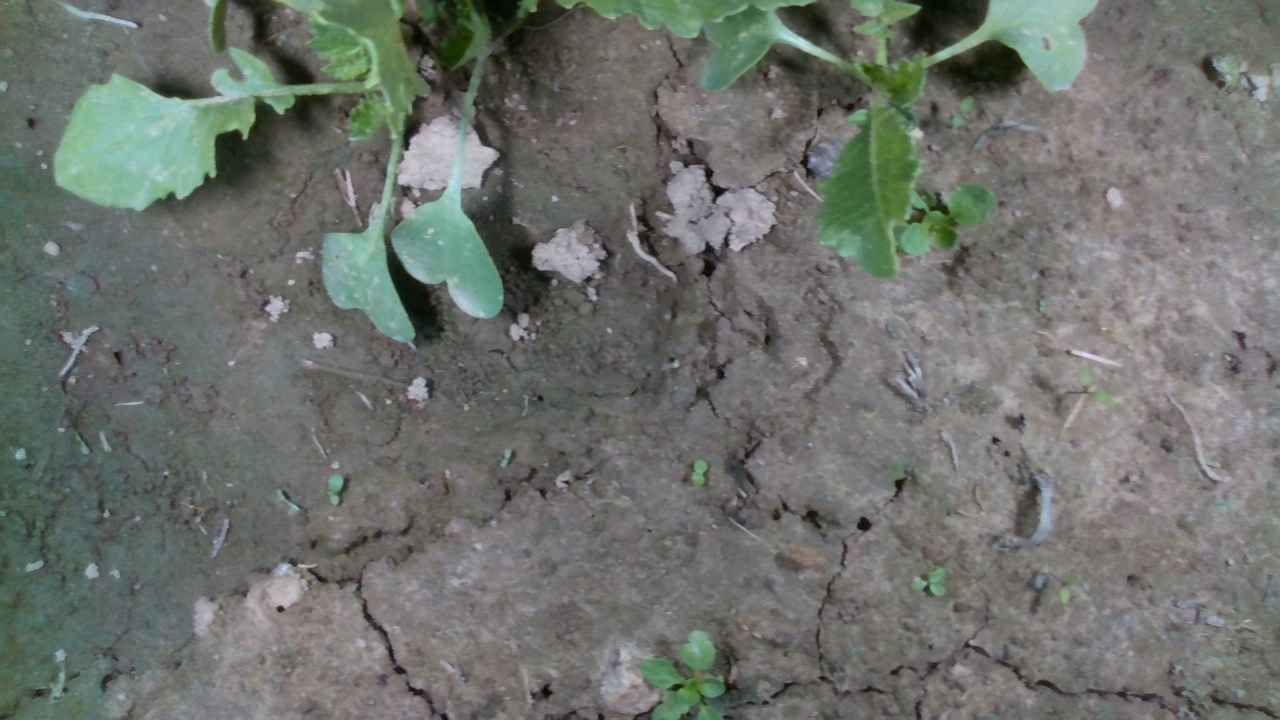weed: (1077, 367, 1115, 408), (903, 565, 945, 598), (946, 94, 975, 132), (323, 472, 344, 508), (1057, 569, 1077, 606), (689, 458, 709, 487)
